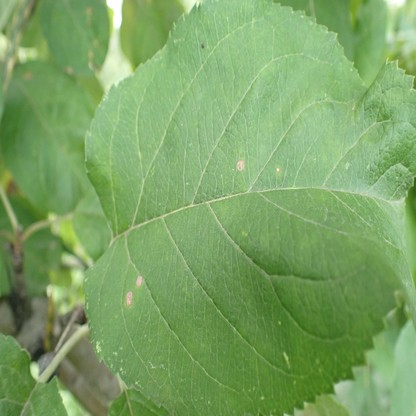frogeye_leaf_spot: (126, 274, 143, 306), (237, 159, 246, 172)
